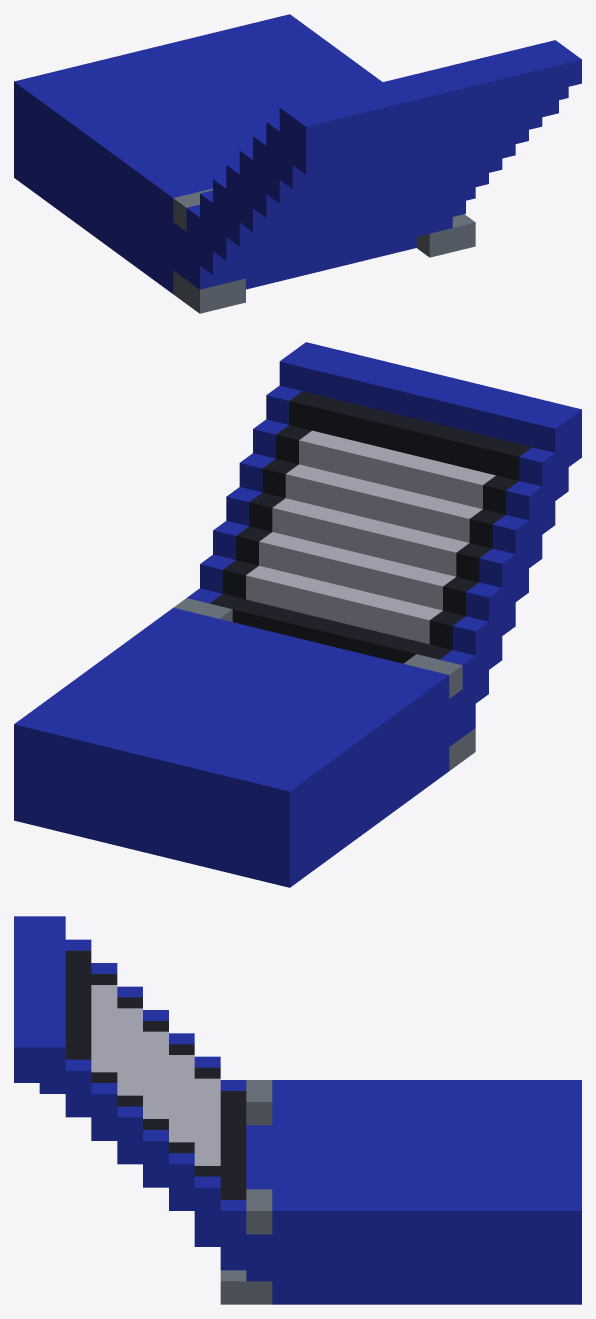
Rendered from gameboy.glb.
The picture shows the model from 3 angles, top to bottom: view 1: azimuth 30°, elevation 25°; view 2: azimuth 150°, elevation 25°; view 3: azimuth 270°, elevation 25°; orthographic projection. The views are drawn at different scales.
Parts seen in each view (by area): view 1: model, model.001; view 2: model, model.001; view 3: model, model.001.
Part boxes in pixels (bbox=[...]): model: bbox=[14, 40, 581, 313]; model.001: bbox=[14, 14, 382, 245]; model: bbox=[14, 342, 581, 887]; model.001: bbox=[14, 598, 462, 839]; model: bbox=[14, 916, 581, 1304]; model.001: bbox=[246, 1080, 581, 1257].
Size of the model in its own units: 1.2 by 1.1 by 2.2.
